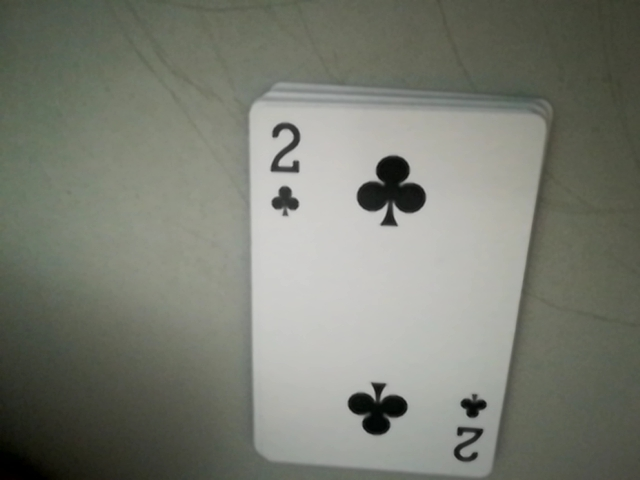mh 2: (252, 105, 313, 225), (450, 387, 495, 475)
